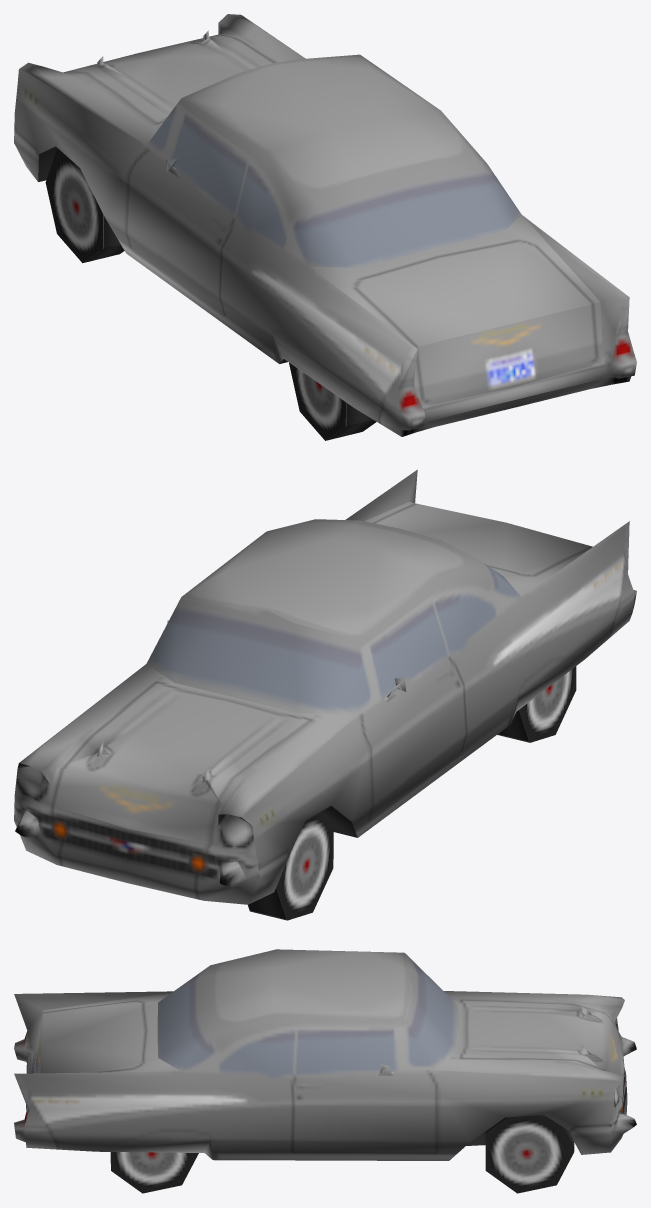
Rendered from fhqDiecast1857BelAir.fbx.
3 views of the same model, one above another, from view 1: azimuth 30°, elevation 25°; view 2: azimuth 150°, elevation 25°; view 3: azimuth 270°, elevation 25° (orthographic). The views are drawn at different scales.
Visible parts, largest first — view 1: fhqbelair; view 2: fhqbelair; view 3: fhqbelair.
Boxes of the visible parts, x1,y1,x2,y2 form: fhqbelair: [14, 14, 636, 440]; fhqbelair: [14, 469, 636, 920]; fhqbelair: [14, 949, 636, 1193].
Size of the model in its own units: 0.1888 by 0.1613 by 0.5234.
